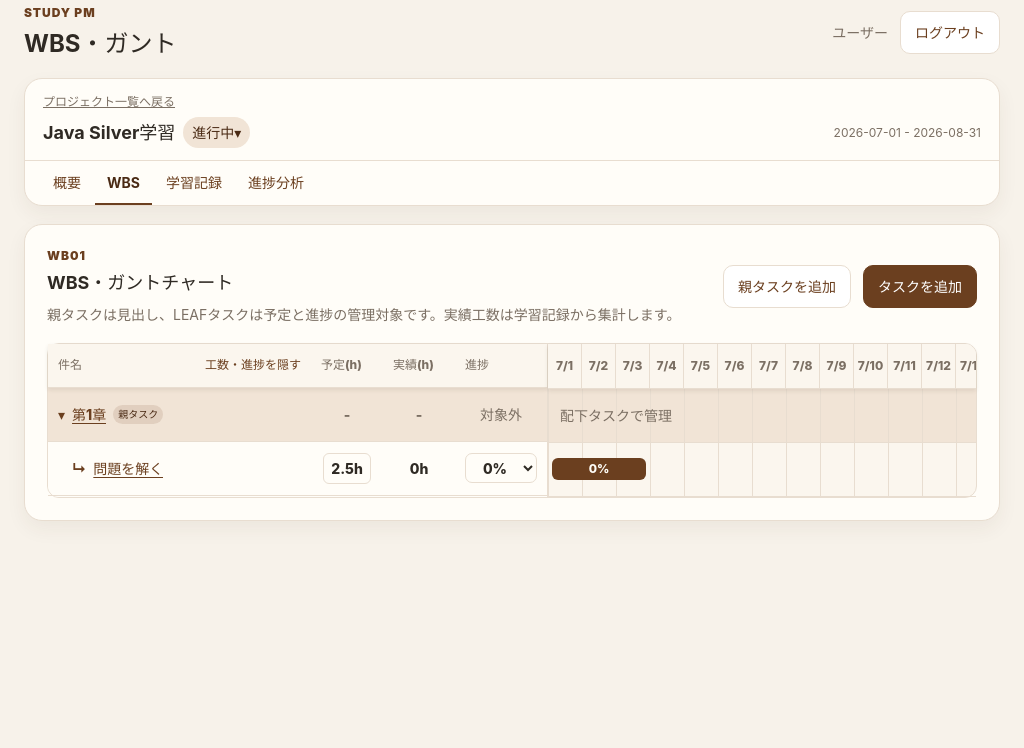
Test case: WbsPage › LEAFタスクを削除すると一覧を再取得して表示から外す
What coordinates should you click on to do the following:
click the button with aria-label "問題を解くの詳細を開く"
I would click on:
 (180, 468)
Its box is 58,458 -> 301,479.
(page scrolled)
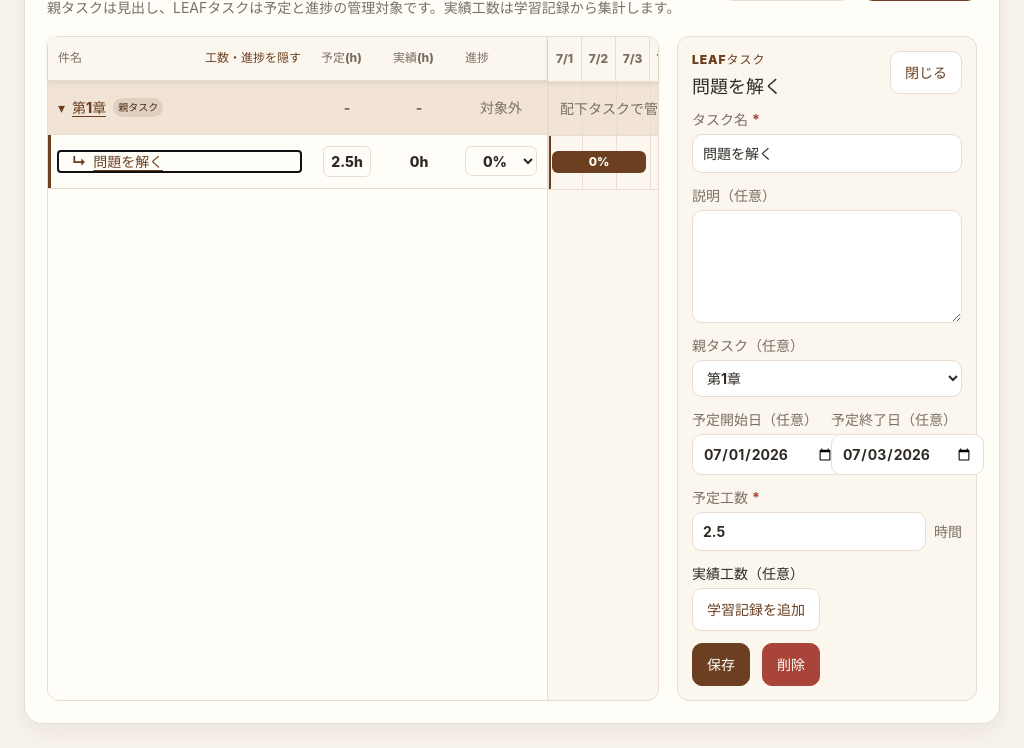
What coordinates should you click on to do the following:
click the button "削除"
I would click on:
 (791, 665)
Its box is 762,643 -> 820,686.
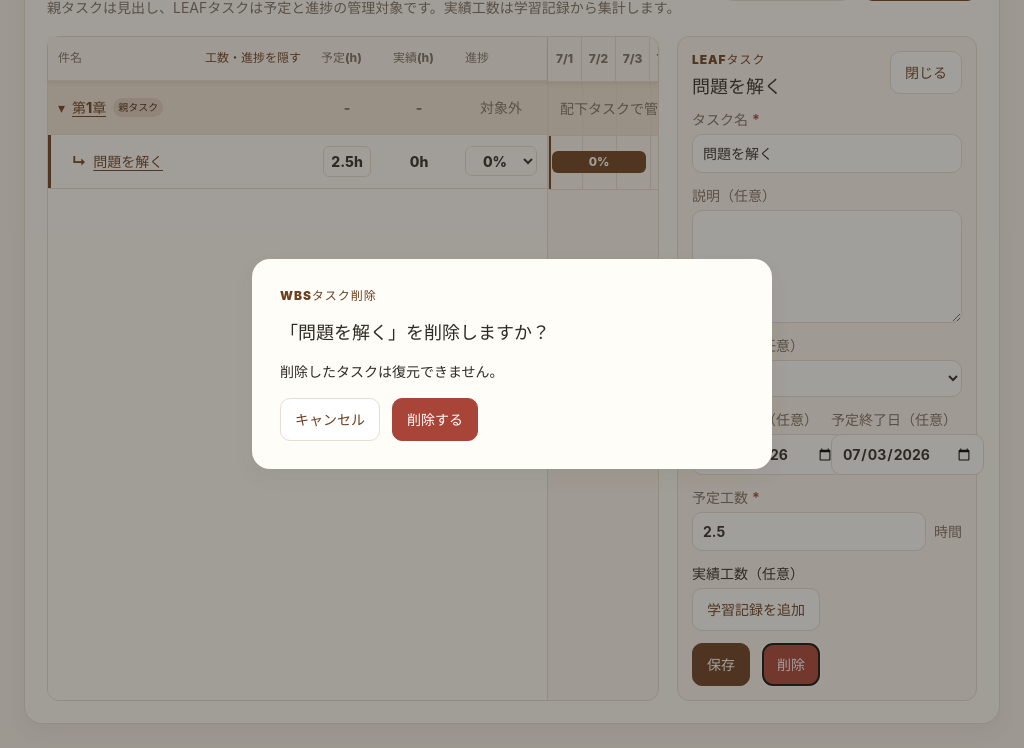
What coordinates should you click on to do the following:
click the button "削除する"
I would click on:
 (435, 420)
Its box is 392,398 -> 478,441.
(page scrolled)
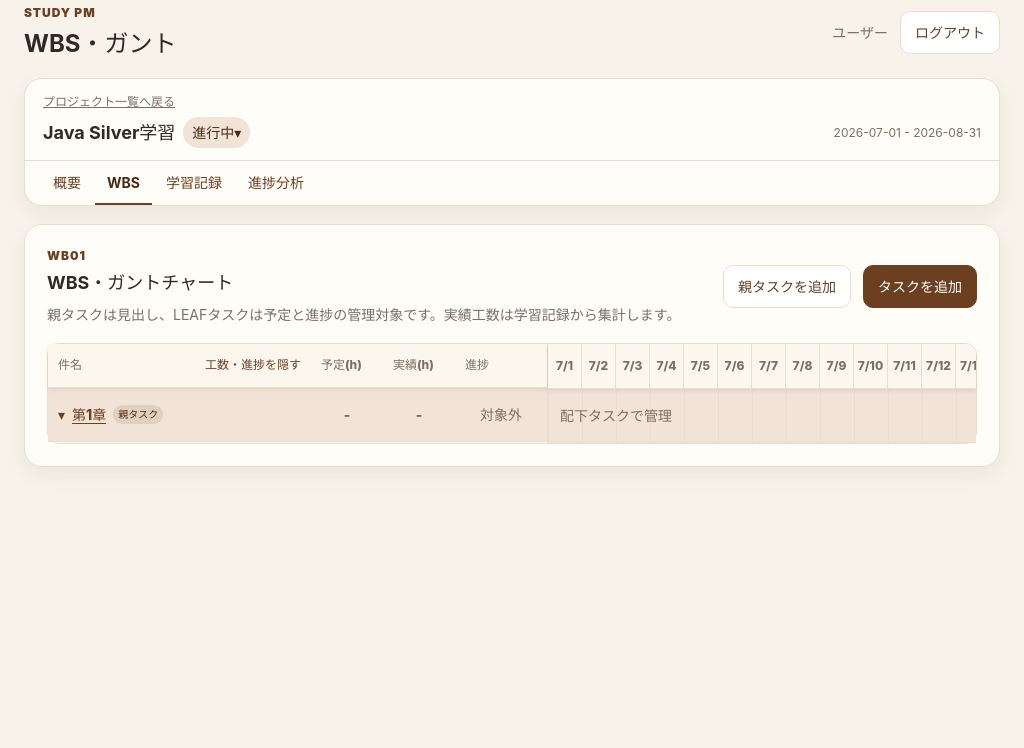
Now the button "問題を解くの詳細を開く" is gone
